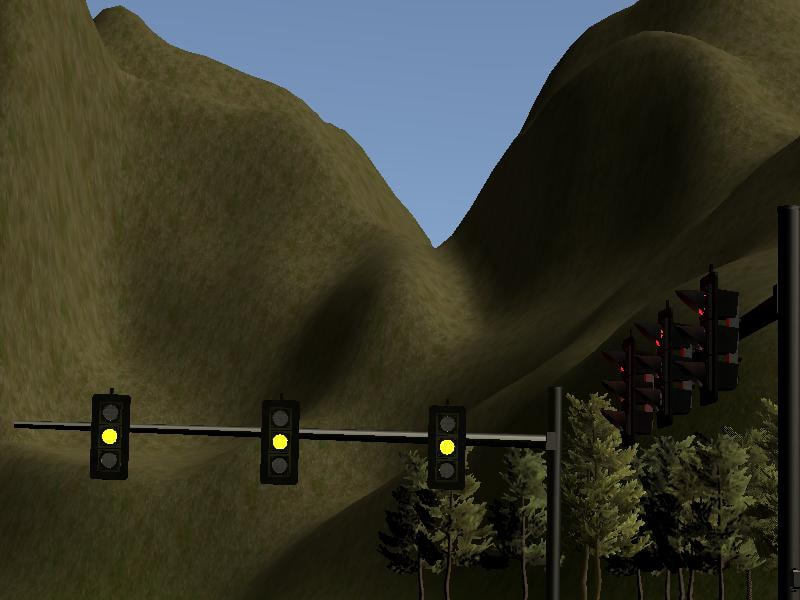yellow: (89, 395, 128, 480), (260, 399, 299, 484), (425, 406, 464, 491)
